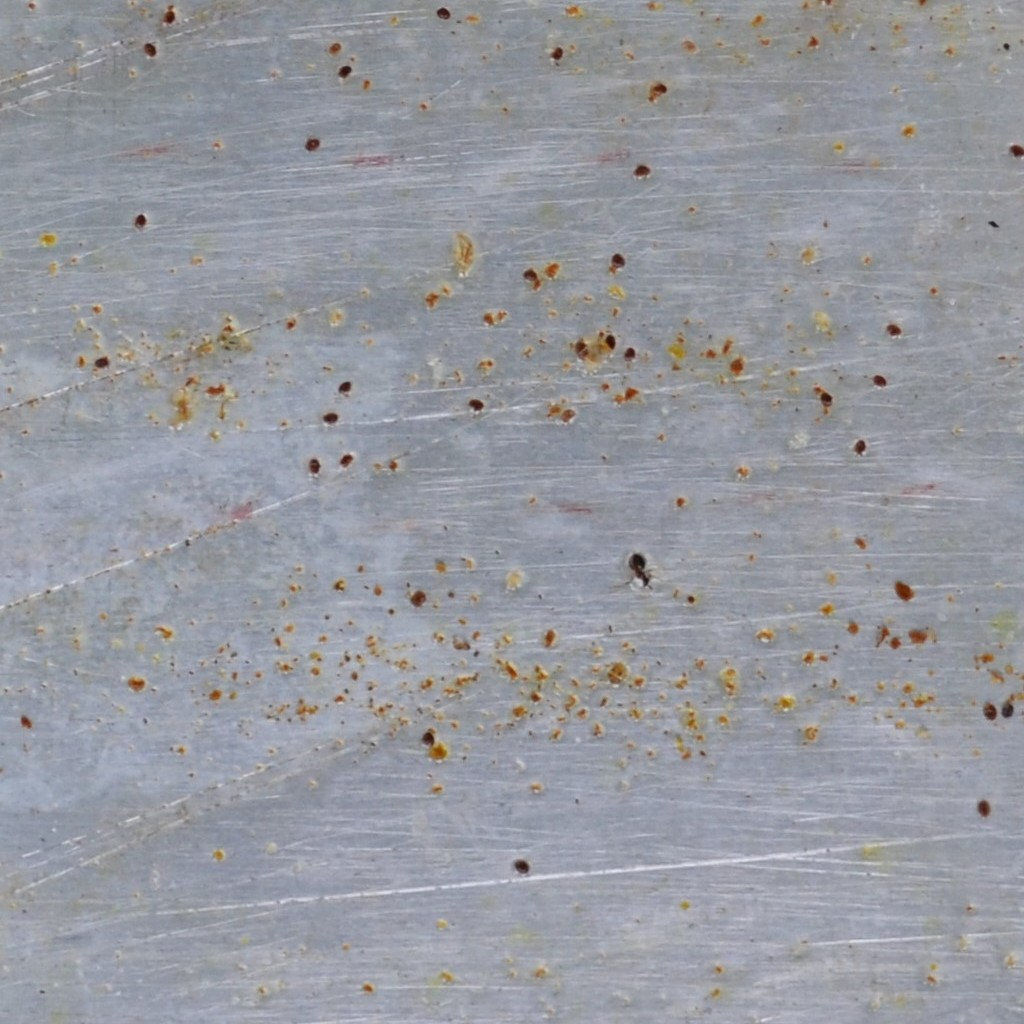varroa: (975, 798, 993, 820), (513, 857, 530, 879), (547, 44, 566, 63), (467, 396, 485, 416), (631, 163, 653, 179), (419, 730, 436, 750), (303, 135, 321, 153), (982, 701, 997, 722), (141, 40, 158, 58), (998, 701, 1015, 719), (434, 6, 453, 22), (651, 80, 670, 96), (1007, 142, 1023, 161), (852, 437, 868, 455), (611, 250, 627, 268), (307, 456, 322, 475), (521, 268, 540, 283), (337, 64, 353, 81), (339, 451, 355, 468), (604, 333, 617, 353), (133, 213, 149, 229), (872, 373, 888, 389), (884, 322, 902, 336), (337, 379, 352, 395), (162, 8, 176, 25), (322, 410, 339, 424), (820, 391, 833, 409), (623, 344, 637, 360), (92, 356, 110, 368)
